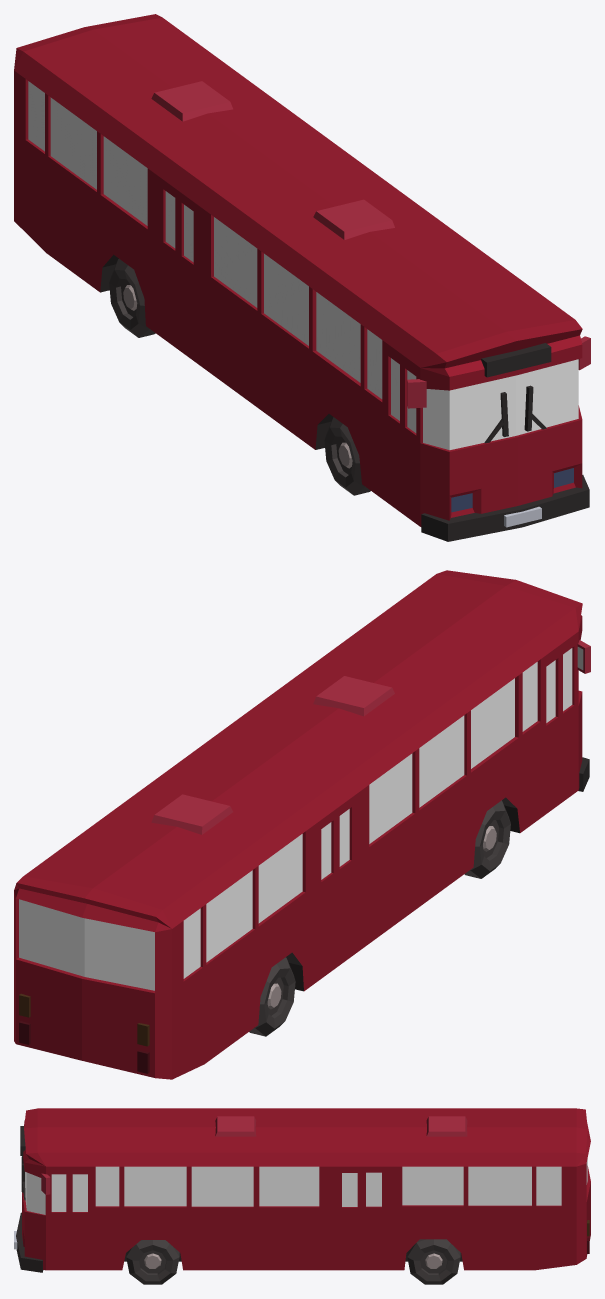
The model's file is Bus_01.fbx.
The picture shows the model from 3 angles, top to bottom: view 1: azimuth 30°, elevation 25°; view 2: azimuth 150°, elevation 25°; view 3: azimuth 270°, elevation 25°; orthographic projection. The views are drawn at different scales.
Visible parts, largest first — view 1: Body_mesh, Windows, Body_Details, Wheels; view 2: Body_mesh, Windows, Wheels, Lights, Body_Details; view 3: Body_mesh, Windows, Wheels, Body_Details.
Boxes of the visible parts, left/top/right/bottom form: Body_mesh: left=14, top=14, right=590, bottom=526; Windows: left=28, top=81, right=578, bottom=450; Body_Details: left=100, top=254, right=589, bottom=541; Wheels: left=109, top=259, right=370, bottom=495; Body_mesh: left=14, top=570, right=590, bottom=1079; Windows: left=19, top=647, right=583, bottom=990; Wheels: left=249, top=800, right=510, bottom=1036; Lights: left=19, top=993, right=149, bottom=1073; Body_Details: left=286, top=757, right=589, bottom=991; Body_mesh: left=22, top=1108, right=590, bottom=1270; Windows: left=25, top=1159, right=587, bottom=1214; Wheels: left=126, top=1239, right=460, bottom=1284; Body_Details: left=14, top=1126, right=462, bottom=1272.
Size of the model in its own units: 2.47 by 2.73 by 10.35.
